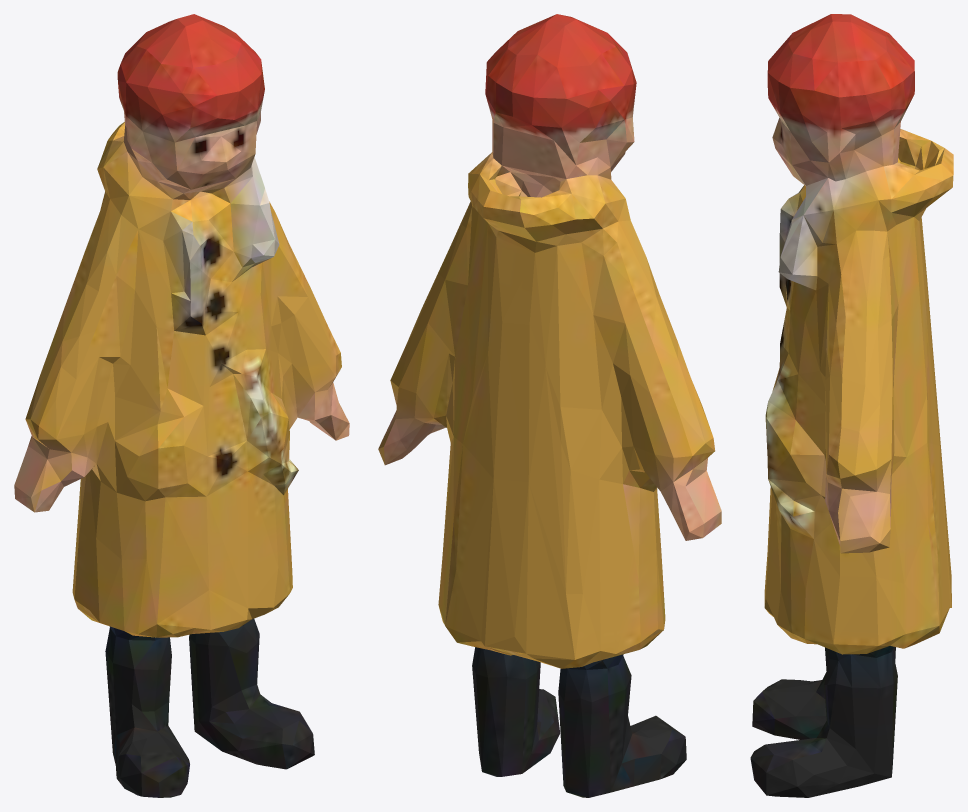
Rendered from habitant-loin.glb.
3 views of the same model, side by side, from view 1: azimuth 30°, elevation 25°; view 2: azimuth 150°, elevation 25°; view 3: azimuth 270°, elevation 25° (orthographic). The views are drawn at different scales.
Visible parts, largest first — view 1: habitant; view 2: habitant; view 3: habitant.
Part boxes in pixels (x1,y1,x2,y2): habitant: [14, 14, 349, 797]; habitant: [378, 14, 721, 797]; habitant: [750, 14, 953, 797].
Bounding box in the file's own units: 0.4548 × 1.01 × 0.2502.
1 material, 1 textured.
